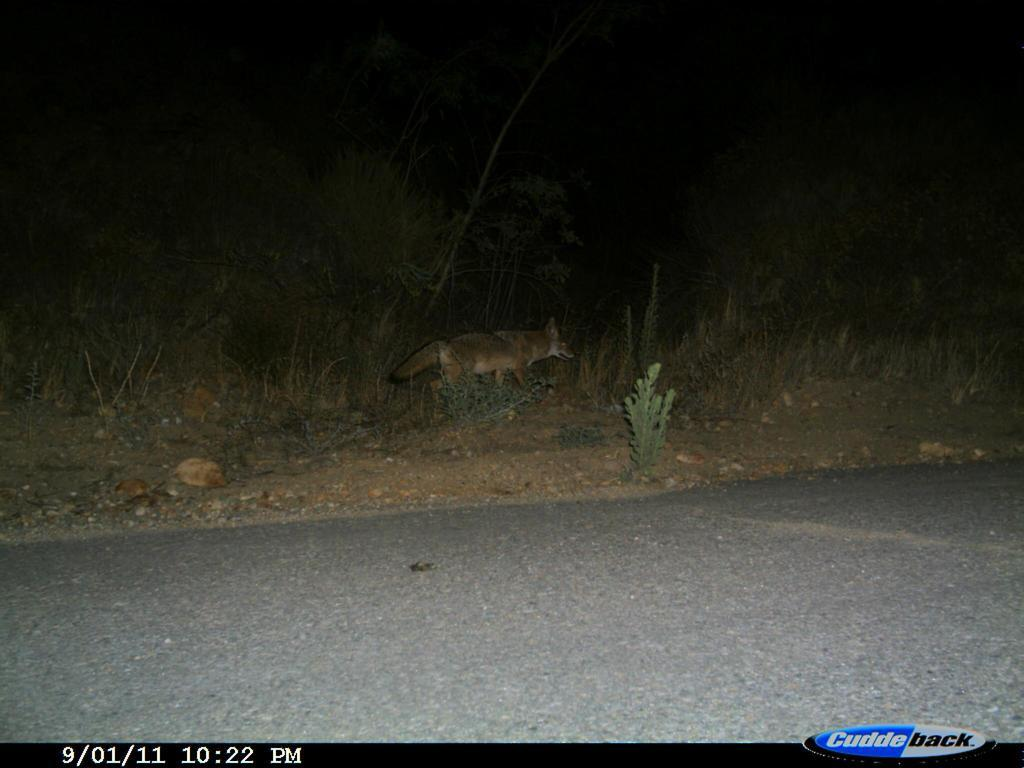coyote: (381, 312, 589, 424)
